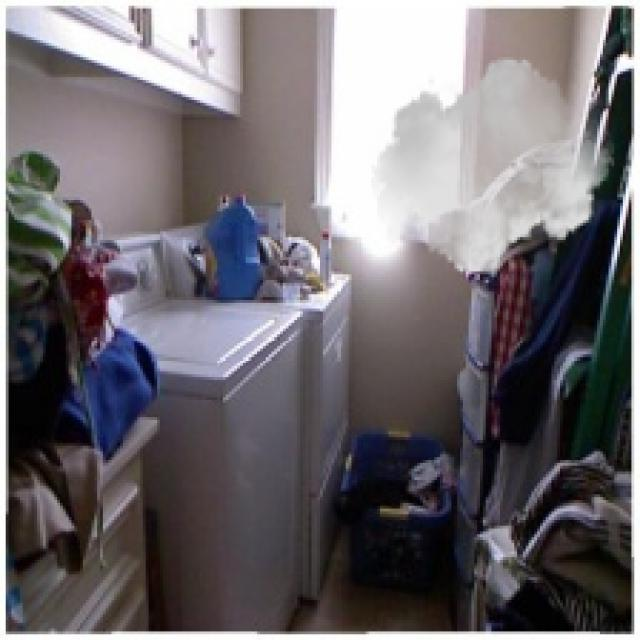Smoke: (372, 48, 614, 283)
